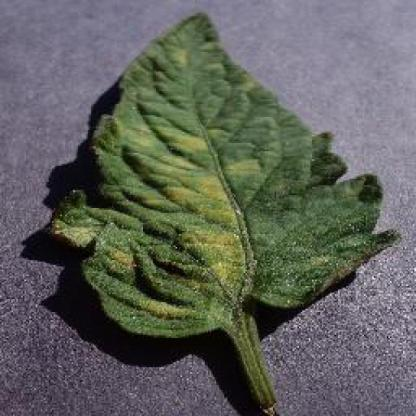Tomato_Leaf_Mold: (52, 10, 375, 337)
